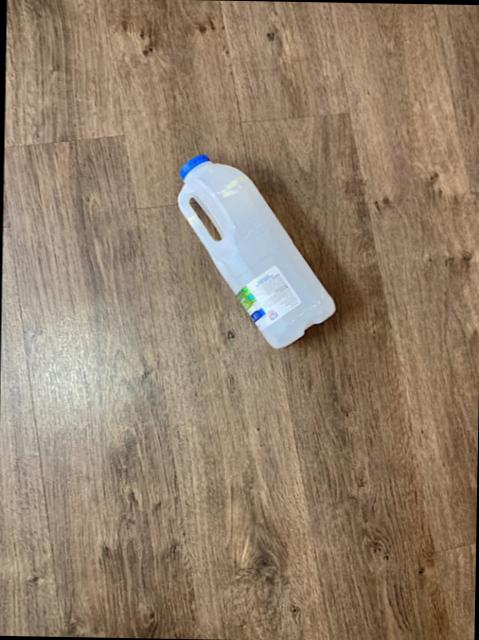plastic: (178, 153, 335, 345)
